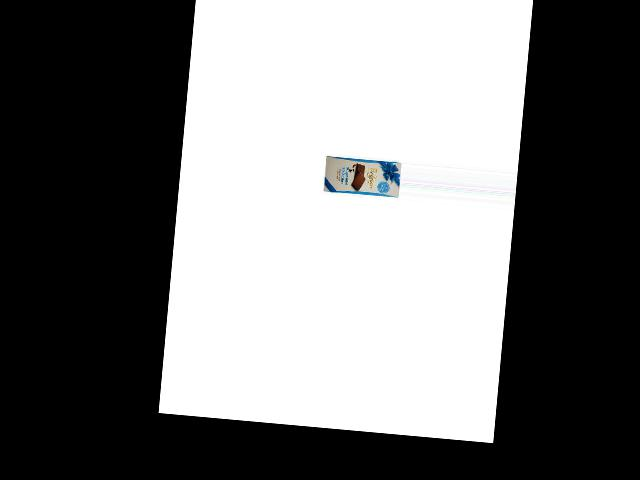chocolate: (321, 150, 402, 201)
